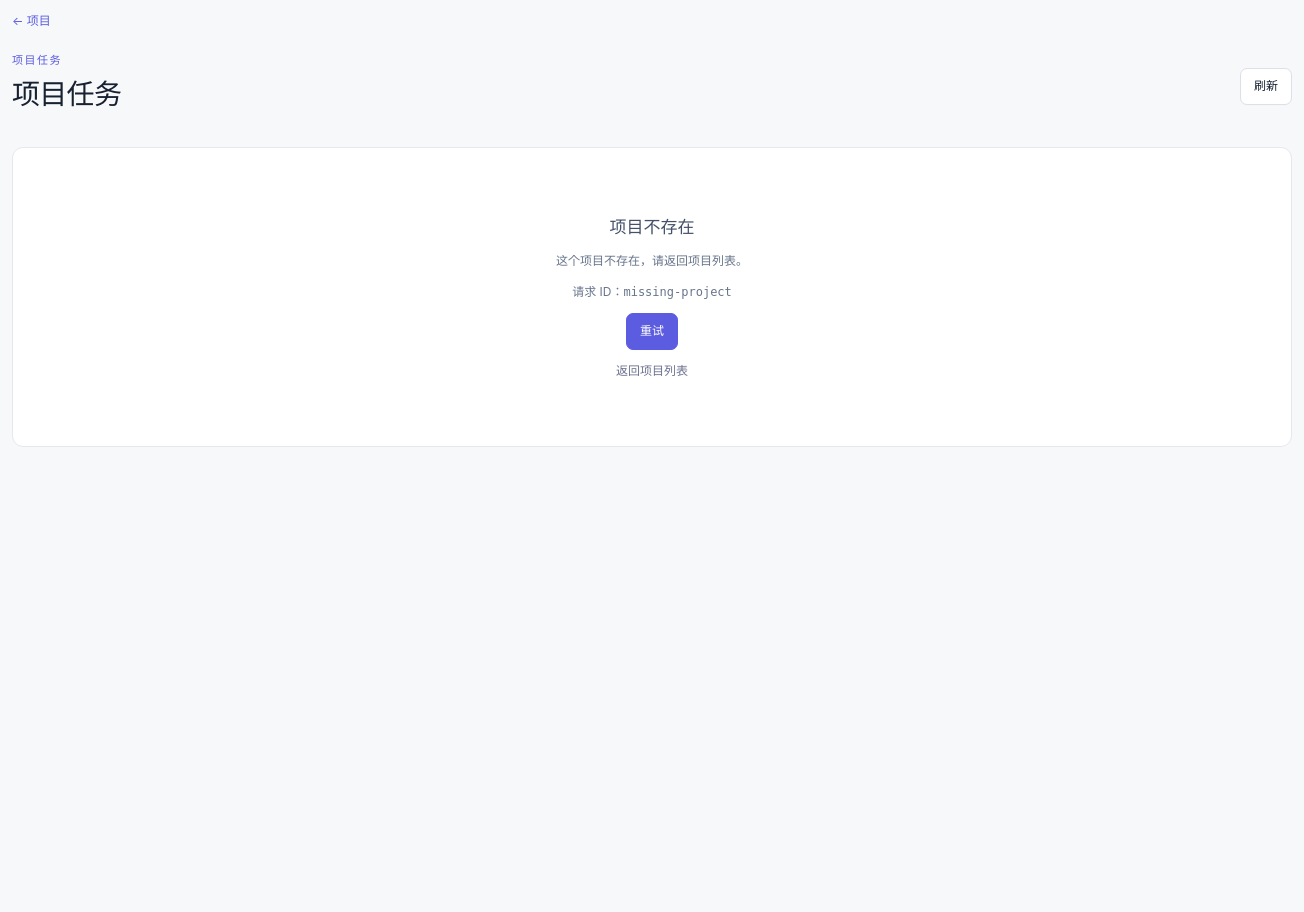
Test: project dashboard › shows safe first-load errors without zero-stat fallbacks 0
Expected: the message shows "项目不存在", [610,217,694,237]
Expected: the text "这个项目不存在，请返回项目列表。" is shown, [556,252,748,271]
Click the button "重试".
click(652, 332)  # box [626,313,678,350]
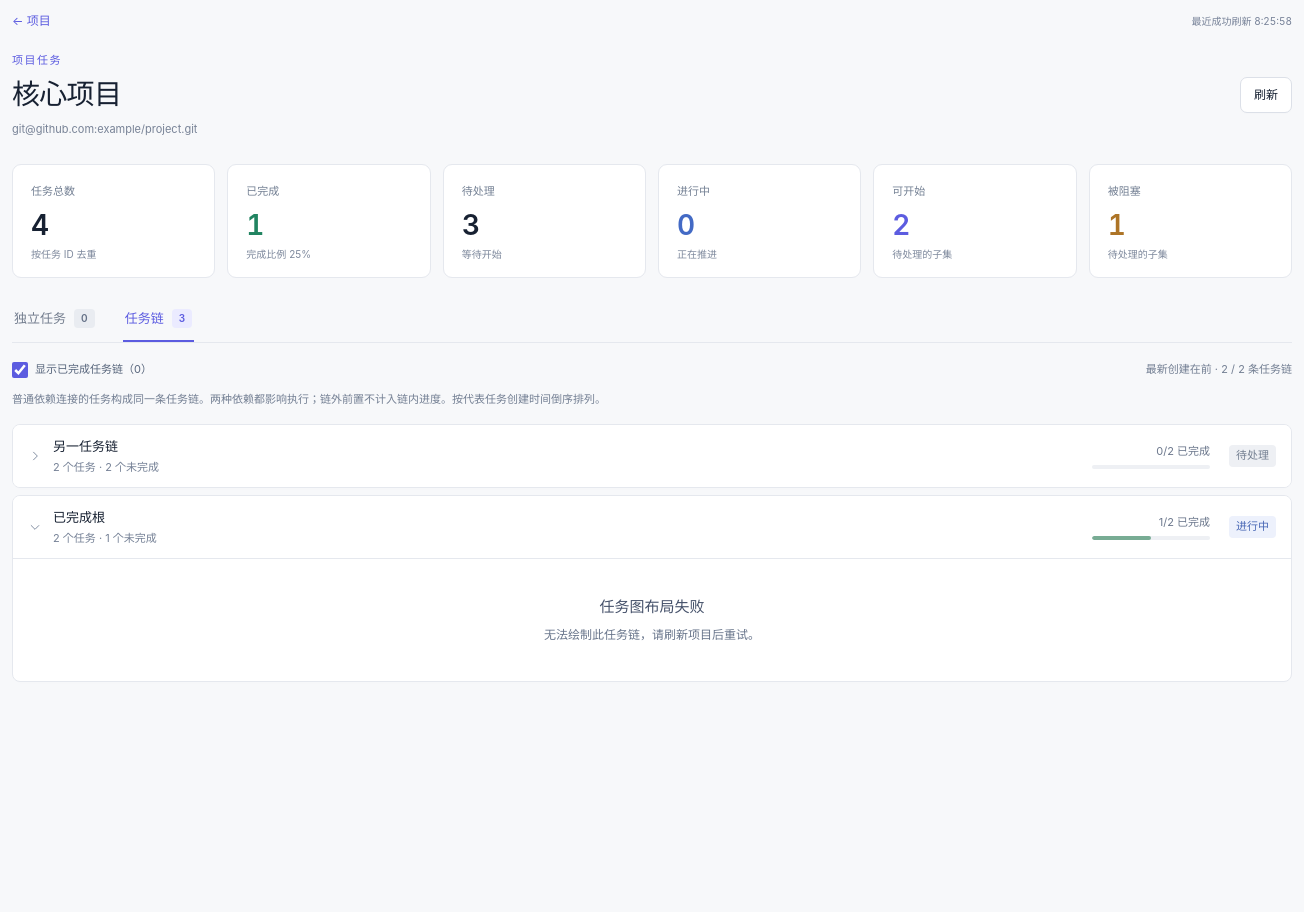
Expected: the heading "核心项目" is shown, [12,77,121,111]
